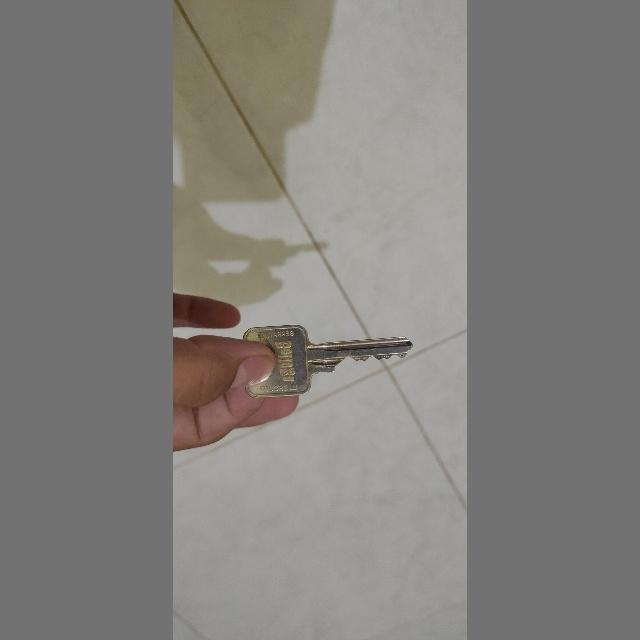Keys: (232, 318, 418, 422)
